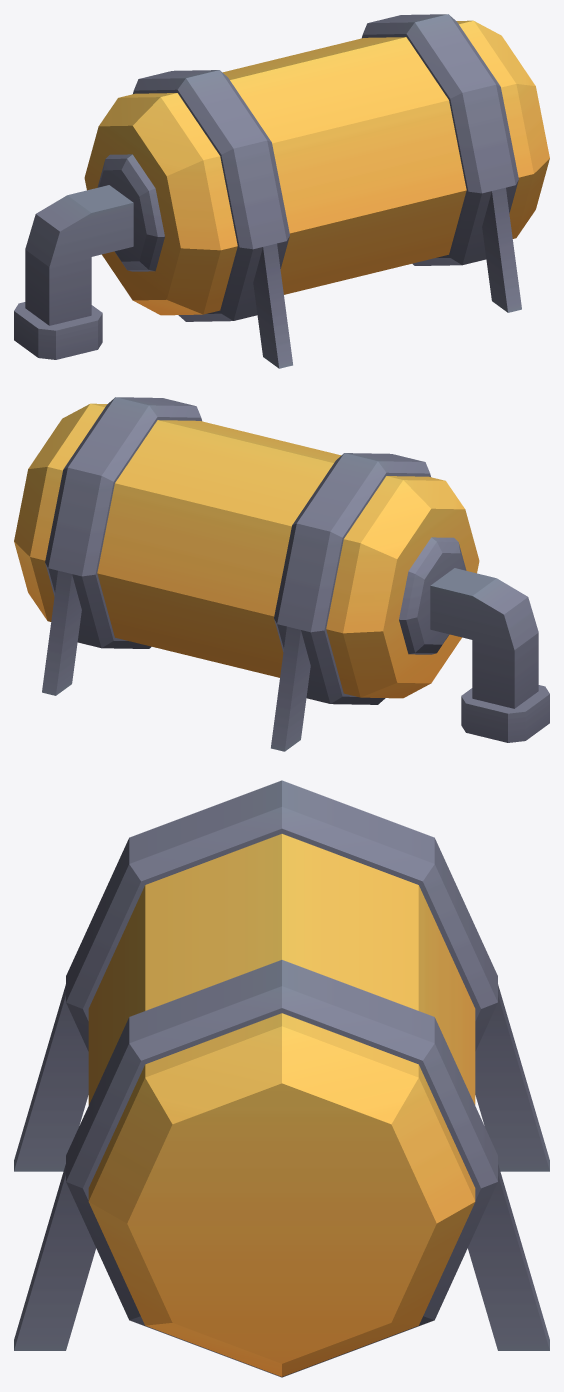
Rendered from industrial__detail-tank.glb.
The picture shows the model from 3 angles, top to bottom: view 1: azimuth 30°, elevation 25°; view 2: azimuth 150°, elevation 25°; view 3: azimuth 270°, elevation 25°; orthographic projection. The views are drawn at different scales.
Parts seen in each view (by area): view 1: detail-tank; view 2: detail-tank; view 3: detail-tank.
Part boxes in pixels (x1,y1,x2,y2): detail-tank: (14,14,549,368); detail-tank: (14,397,549,751); detail-tank: (14,780,549,1377).
Bounding box in the file's own units: 0.848 × 0.4152 × 0.5153.
1 material, 1 textured.
